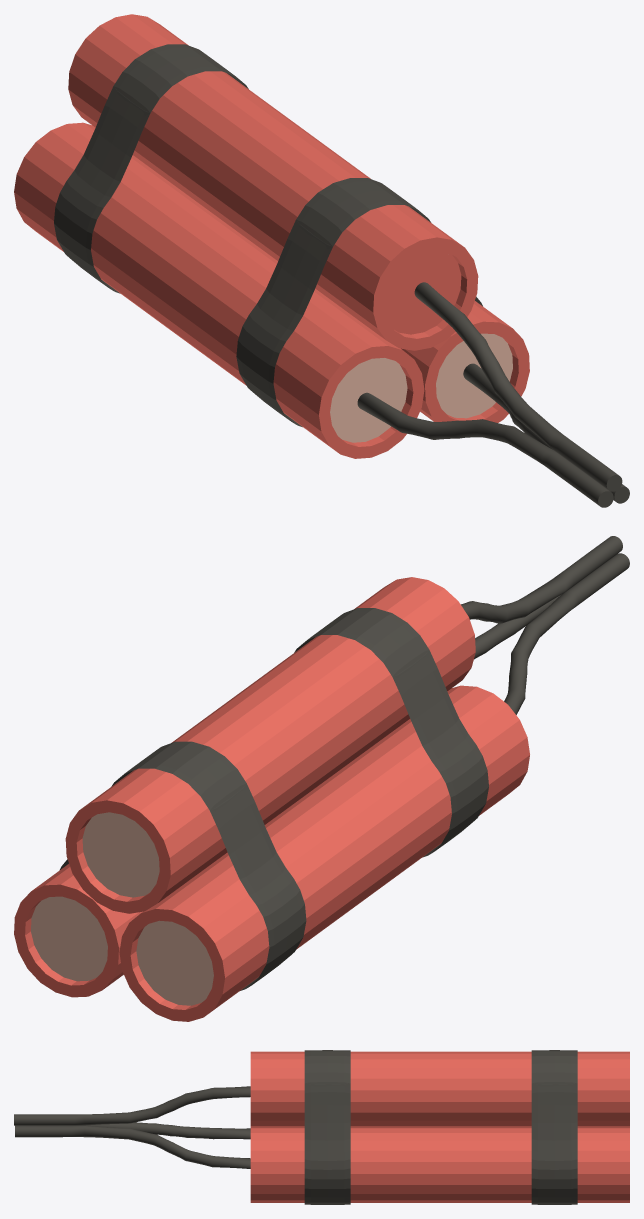
File: dynamite.fbx
3 renders of one model, top to bottom at view 1: azimuth 30°, elevation 25°; view 2: azimuth 150°, elevation 25°; view 3: azimuth 270°, elevation 25°, orthographic. The views are drawn at different scales.
Visible parts, largest first — view 1: dynamite.001; view 2: dynamite.001; view 3: dynamite.001.
Boxes of the visible parts, x1,y1,x2,y2 form: dynamite.001: (14, 14, 629, 507); dynamite.001: (14, 536, 629, 1021); dynamite.001: (14, 1050, 629, 1204).
Bounding box in the file's own units: 33.28 × 31.23 × 132.
